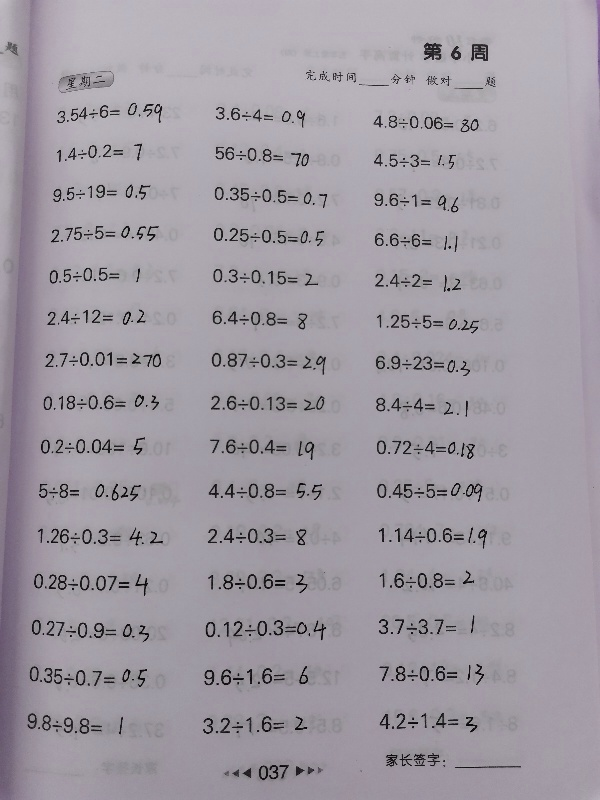equation: (28, 473, 148, 506), (202, 616, 330, 644), (29, 570, 151, 599), (40, 260, 157, 290), (35, 524, 167, 550), (23, 712, 142, 740), (207, 349, 329, 376), (376, 660, 488, 689), (374, 521, 490, 549), (53, 98, 165, 127), (27, 617, 153, 642), (25, 664, 150, 689), (42, 348, 166, 372), (372, 477, 486, 503), (39, 390, 162, 414), (205, 435, 317, 461), (204, 478, 325, 502), (375, 615, 491, 640), (205, 570, 312, 597), (210, 184, 330, 208), (37, 434, 150, 459), (200, 663, 312, 688), (47, 221, 162, 245), (368, 147, 470, 174), (209, 225, 327, 248), (206, 392, 328, 414), (199, 712, 310, 736), (375, 709, 481, 734), (204, 523, 310, 548), (372, 436, 478, 461), (49, 180, 153, 205), (369, 112, 482, 135), (371, 352, 474, 377), (43, 305, 148, 329), (373, 311, 482, 334), (208, 266, 321, 288), (375, 567, 478, 591), (208, 307, 311, 331), (211, 143, 313, 167), (371, 394, 472, 418), (211, 104, 308, 128), (371, 269, 464, 294), (370, 189, 463, 213), (53, 140, 145, 164), (370, 229, 461, 253)
